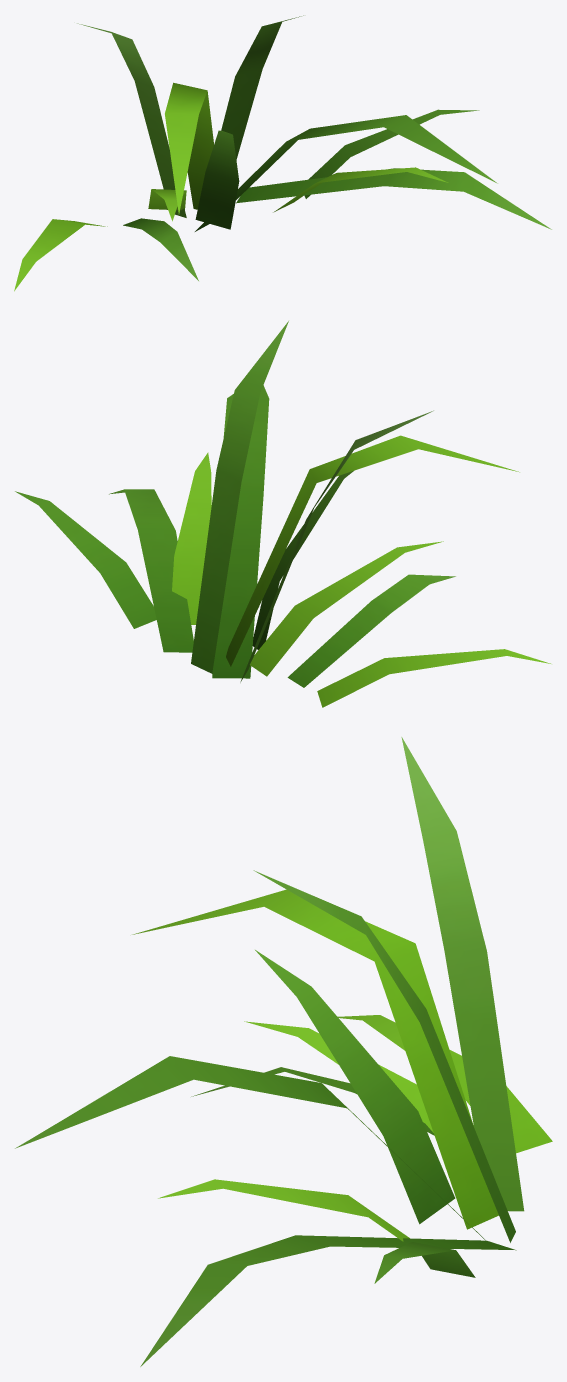
File: SM_Small_Herbs.fbx
3 views of the same model, one above another, from view 1: azimuth 30°, elevation 25°; view 2: azimuth 150°, elevation 25°; view 3: azimuth 270°, elevation 25° (orthographic). The views are drawn at different scales.
Visible parts, largest first — view 1: SM_Small_Herbs; view 2: SM_Small_Herbs; view 3: SM_Small_Herbs.
Boxes of the visible parts, x1,y1,x2,y2 form: SM_Small_Herbs: (14,15,551,291); SM_Small_Herbs: (15,321,550,707); SM_Small_Herbs: (15,737,552,1366).
Size of the model in its own units: 0.5837 by 0.308 by 0.3851.
